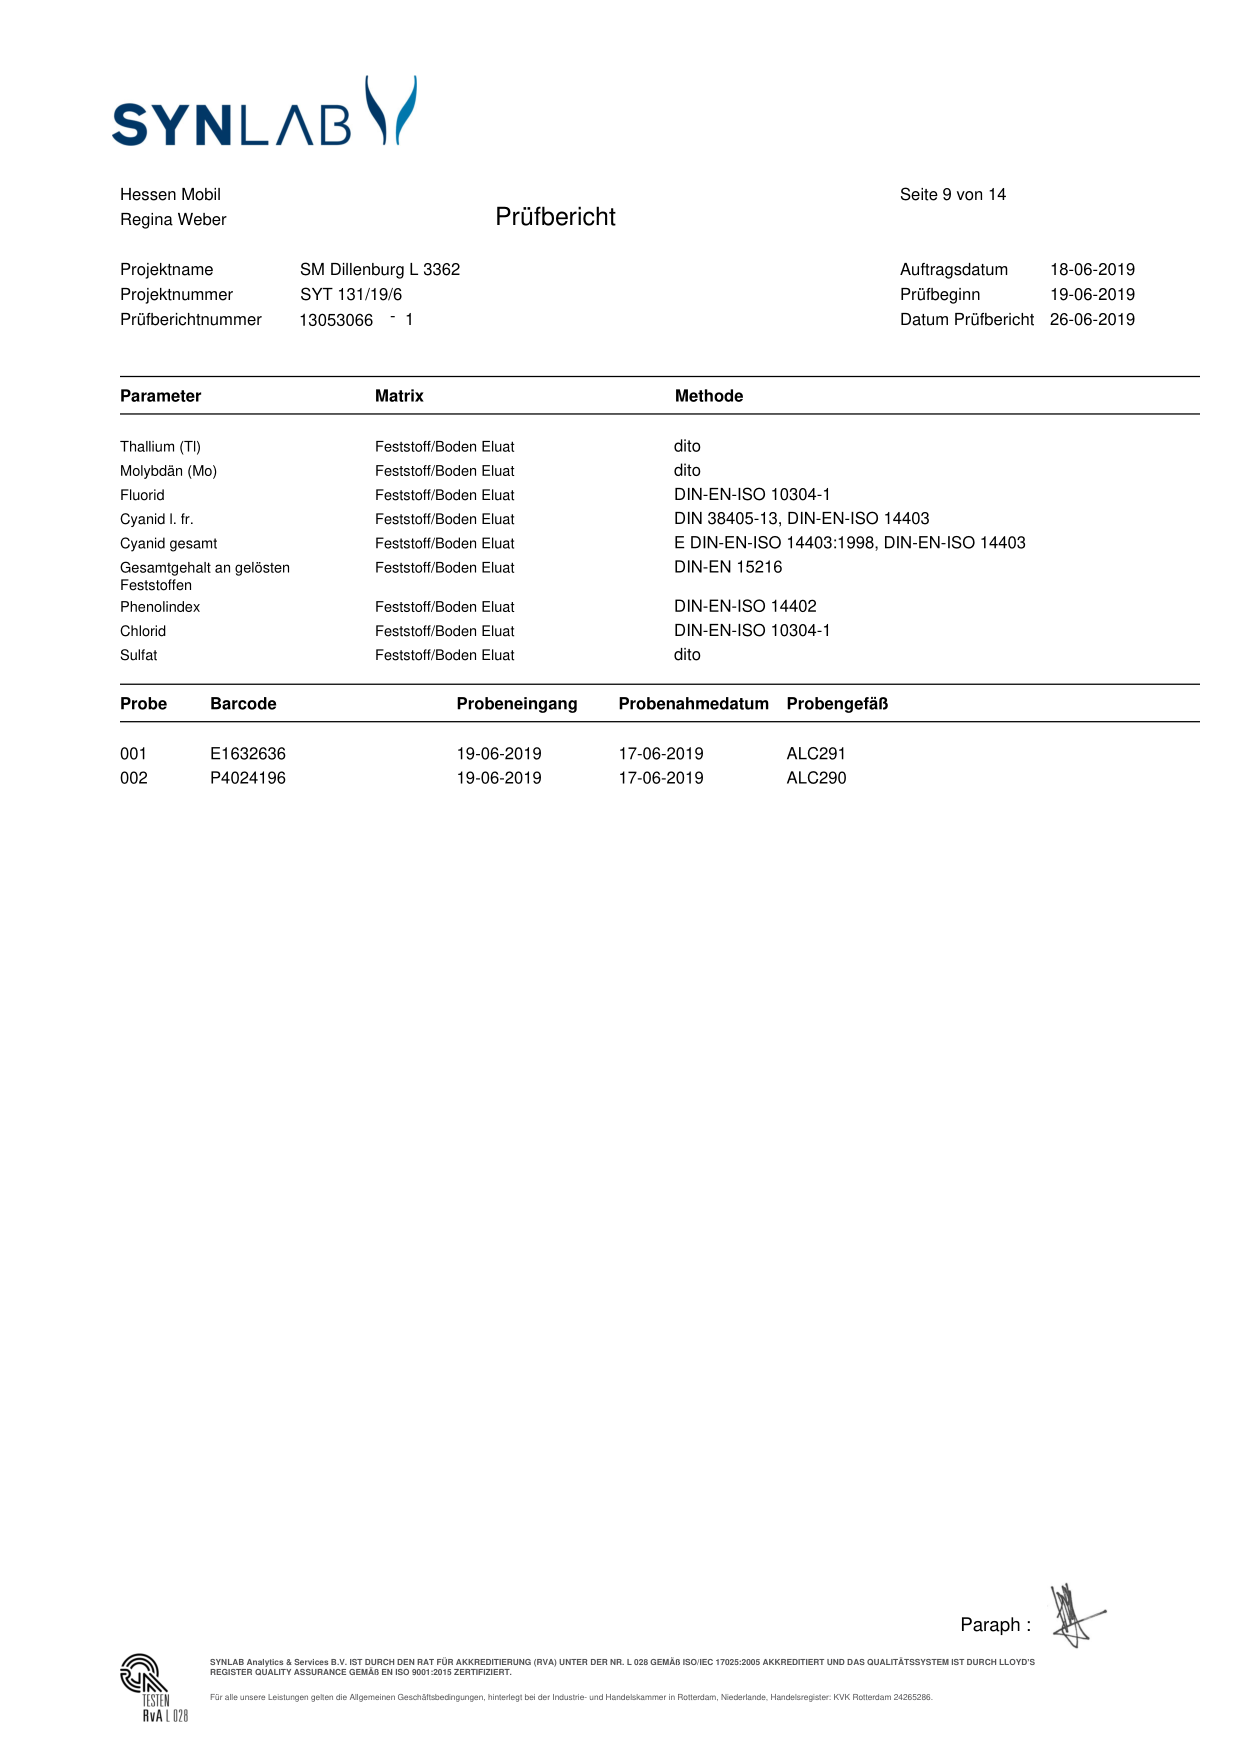table: (95, 420, 1062, 666), (90, 731, 869, 792)
